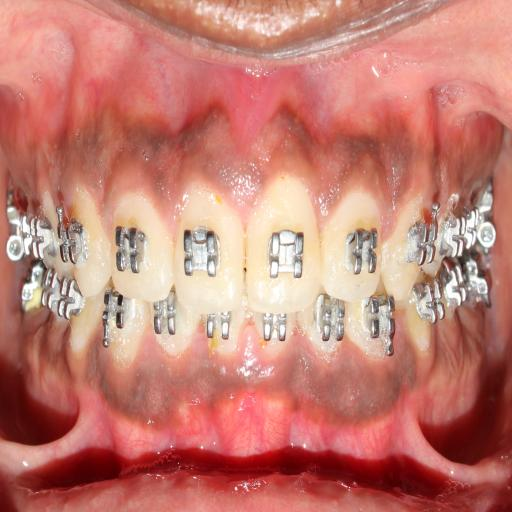correct_brace: (262, 220, 310, 285), (178, 224, 223, 286), (110, 215, 148, 279), (406, 214, 440, 280), (346, 222, 378, 276), (59, 211, 85, 274)
incorrect_brace: (320, 192, 384, 296), (112, 193, 173, 299)
